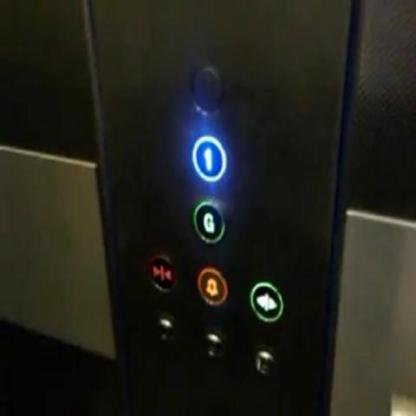1: (191, 133, 228, 182)
G: (192, 195, 227, 244)
alarm: (195, 264, 227, 307)
close: (146, 252, 176, 290)
empty: (187, 59, 225, 115)
indicator: (250, 344, 274, 376), (202, 329, 226, 359), (154, 311, 176, 342)
open: (249, 280, 283, 323)
